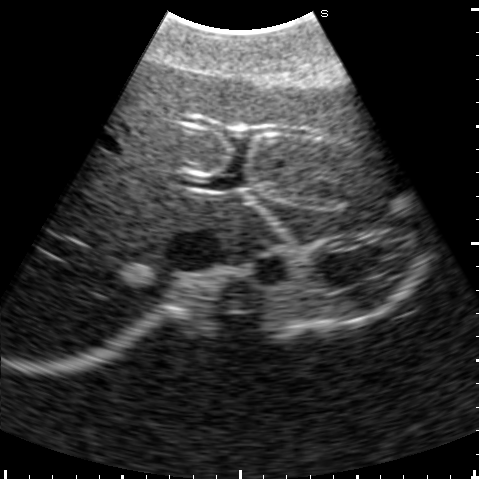IVC: (163, 228, 225, 271)
S1: (220, 198, 284, 265)
S2: (256, 173, 411, 244)
S3: (238, 79, 400, 203)
